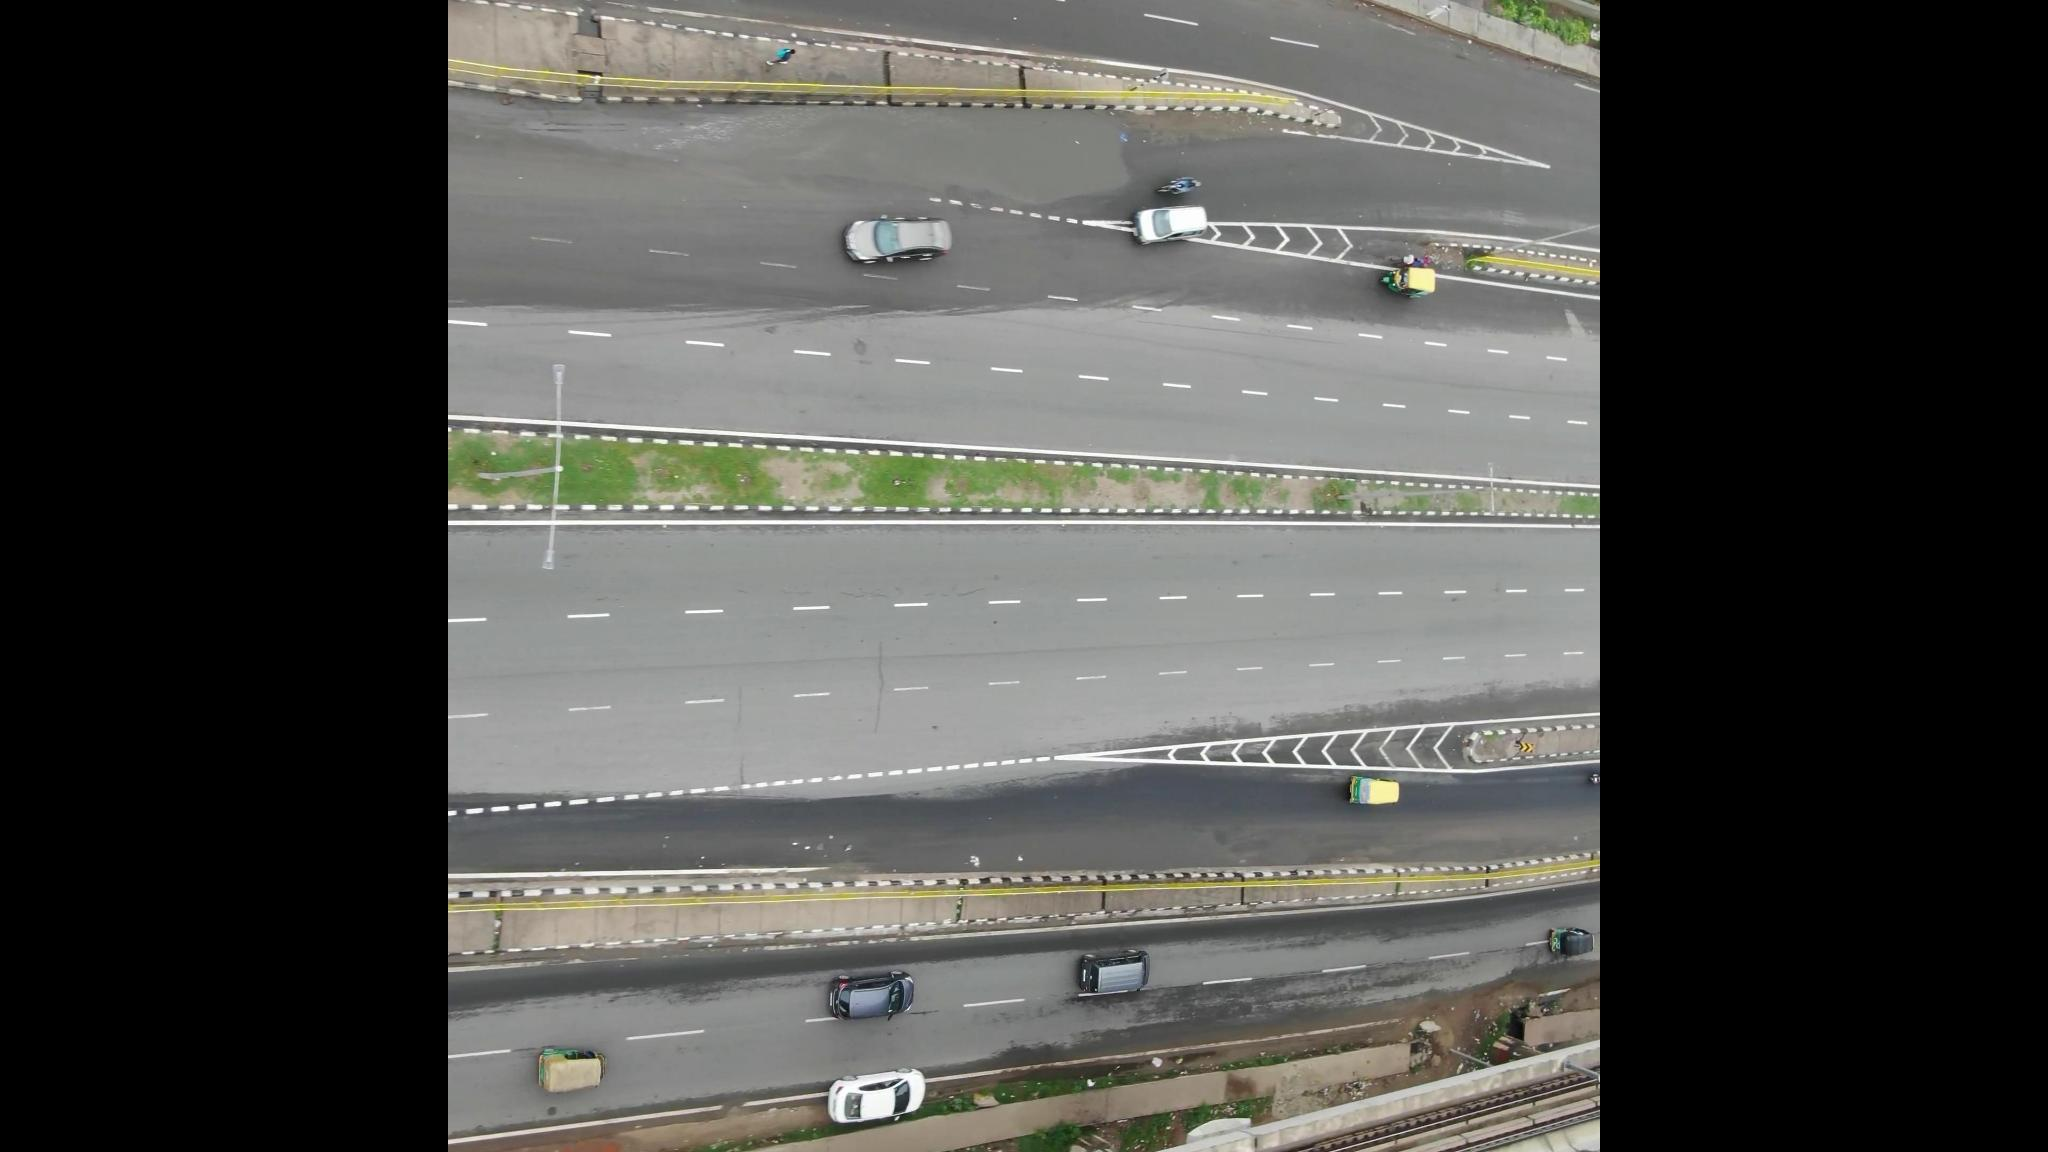Cracks: (828, 602, 904, 748), (708, 650, 774, 805)
Waterlogging: (927, 103, 1120, 214)
